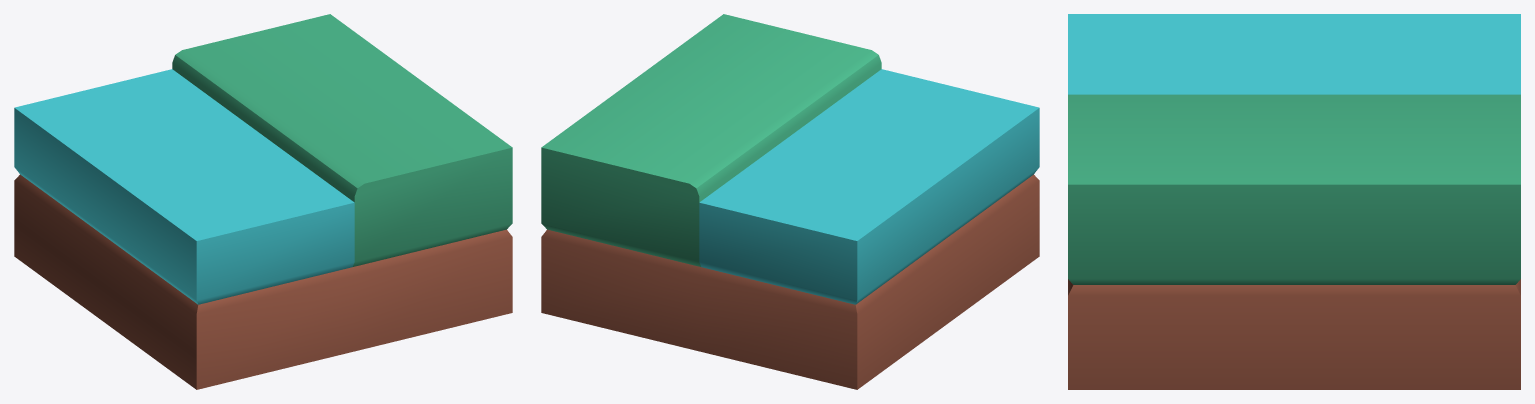
Rendered from square_forest_waterStraight.glb.
The picture shows the model from 3 angles, left to right: view 1: azimuth 30°, elevation 25°; view 2: azimuth 150°, elevation 25°; view 3: azimuth 270°, elevation 25°; orthographic projection. The views are drawn at different scales.
Visible parts, largest first — view 1: square_forest_waterStraight; view 2: square_forest_waterStraight; view 3: square_forest_waterStraight.
Boxes of the visible parts, x1,y1,x2,y2 form: square_forest_waterStraight: (14, 14, 512, 389); square_forest_waterStraight: (541, 14, 1039, 389); square_forest_waterStraight: (1068, 14, 1520, 389).
Size of the model in its own units: 2 by 1 by 2.
